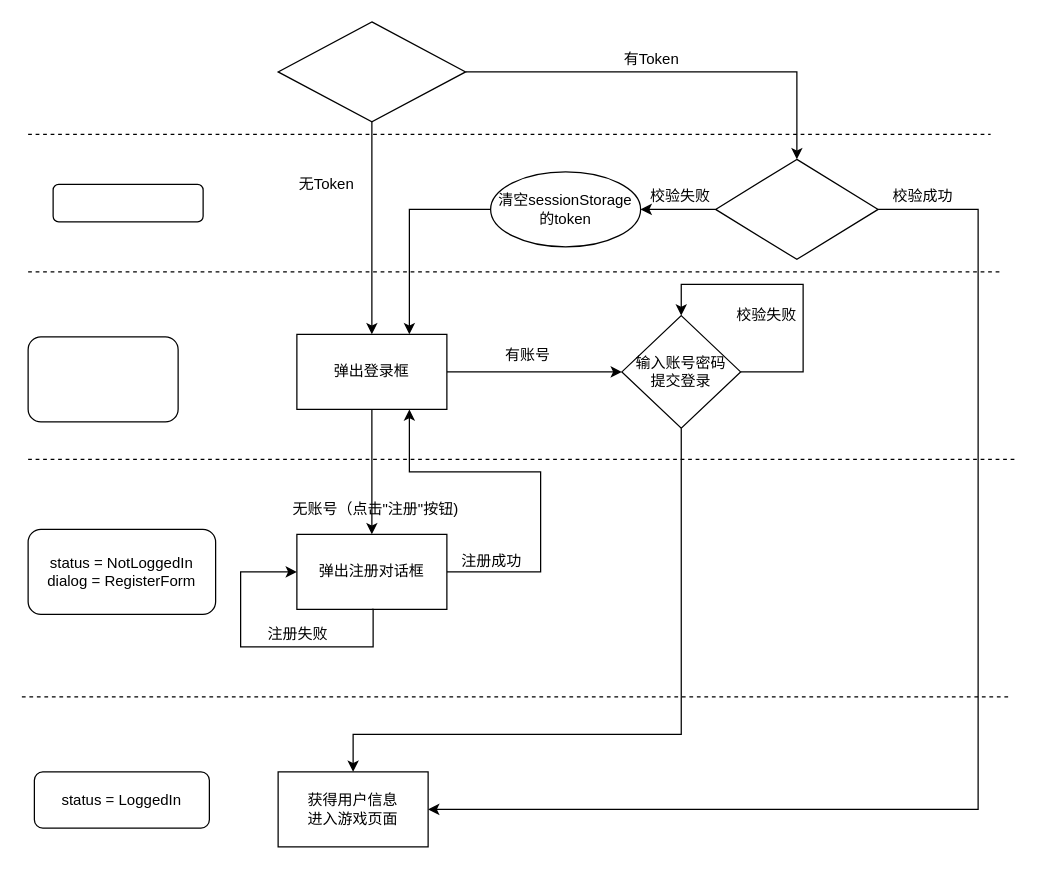
This 1039x869 diagram has some shape labels left out. Here are the shapes that lost their labels. From the top down, the centre of each, then its label:
At point 371,71: "有无token (sessionStorage)".
At point 127,202: "status = Verifying".
At point 796,208: "token校验 (请求校验接口)".
At point 102,379: "status = NotLoggedIn dialog = LoginForm".
